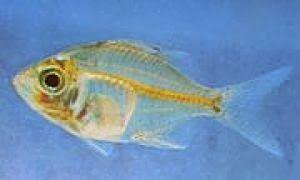Glass Perchlet: (12, 35, 294, 165)
